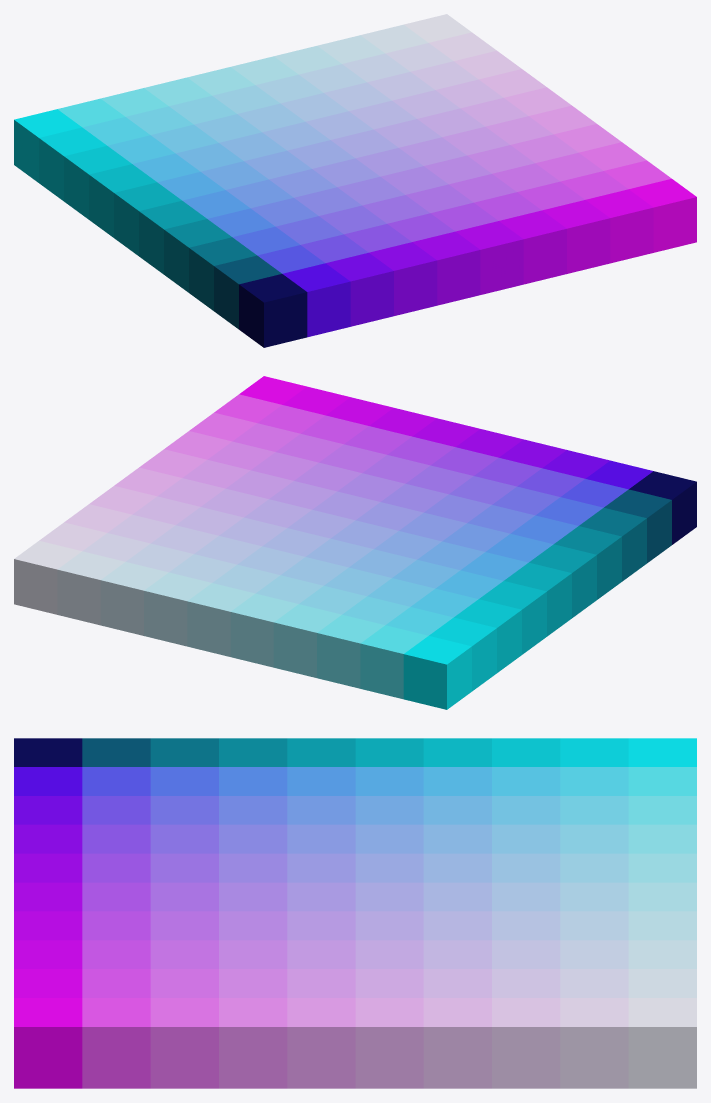
The model's file is cubeAnim.glb.
3 views of the same model, one above another, from view 1: azimuth 30°, elevation 25°; view 2: azimuth 150°, elevation 25°; view 3: azimuth 270°, elevation 25° (orthographic). The views are drawn at different scales.
Visible parts, largest first — view 1: Cube, Cube.060, Cube.010, Cube.070, Cube.080, Cube.020, Cube.040, Cube.050, Cube.090, Cube.030, Cube.001, Cube.004 (+88 smaller); view 2: Cube.009, Cube.069, Cube.019, Cube.079, Cube.089, Cube.029, Cube.049, Cube.059, Cube.099, Cube.039, Cube.005, Cube.008 (+88 smaller); view 3: Cube.090, Cube.091, Cube.092, Cube.093, Cube.094, Cube.095, Cube.096, Cube.097, Cube.098, Cube.099, Cube.031, Cube.034 (+88 smaller).
Boxes of the visible parts, x1,y1,x2,y2 form: Cube: [239, 274, 307, 347]; Cube.060: [499, 210, 566, 284]; Cube.010: [282, 263, 350, 337]; Cube.070: [542, 200, 610, 273]; Cube.080: [585, 189, 653, 263]; Cube.020: [326, 252, 393, 326]; Cube.040: [412, 231, 480, 305]; Cube.050: [456, 221, 523, 294]; Cube.090: [629, 179, 696, 252]; Cube.030: [369, 242, 437, 315]; Cube.001: [214, 255, 281, 329]; Cube.004: [139, 200, 206, 274]; Cube.009: [403, 636, 471, 709]; Cube.069: [144, 572, 211, 646]; Cube.019: [360, 625, 428, 699]; Cube.079: [100, 562, 168, 635]; Cube.089: [57, 551, 125, 625]; Cube.029: [317, 614, 384, 688]; Cube.049: [230, 593, 298, 667]; Cube.059: [187, 583, 254, 656]; Cube.099: [14, 541, 81, 614]; Cube.039: [273, 604, 341, 677]; Cube.005: [504, 562, 571, 636]; Cube.008: [429, 617, 496, 691]; Cube.090: [14, 998, 82, 1088]; Cube.091: [82, 998, 150, 1088]; Cube.092: [150, 998, 218, 1088]; Cube.093: [219, 998, 287, 1088]; Cube.094: [287, 998, 355, 1088]; Cube.095: [355, 998, 423, 1088]; Cube.096: [423, 998, 491, 1088]; Cube.097: [492, 998, 560, 1088]; Cube.098: [560, 998, 628, 1088]; Cube.099: [628, 998, 696, 1088]; Cube.031: [82, 824, 150, 853]; Cube.034: [287, 824, 355, 853].
Bounding box in the file's own units: 20 × 2 × 20.
